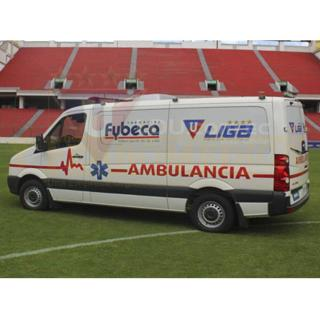Ambulance: (8, 62, 311, 254)
